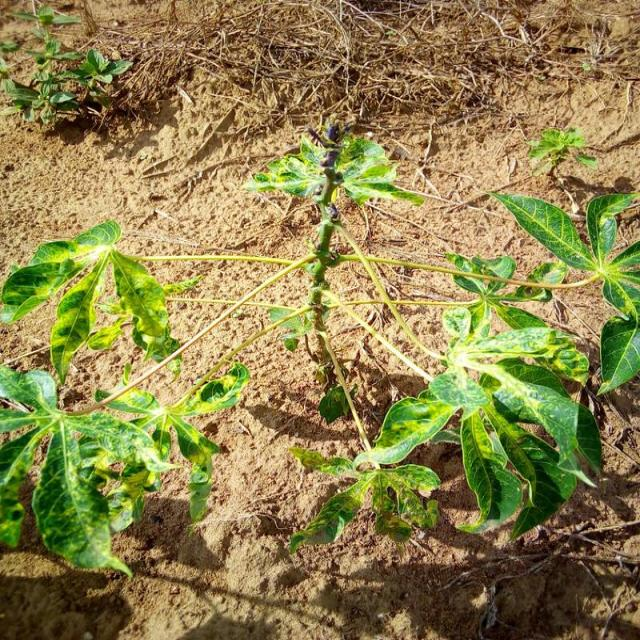cassava leaf: (32, 419, 134, 578), (243, 124, 425, 208)
